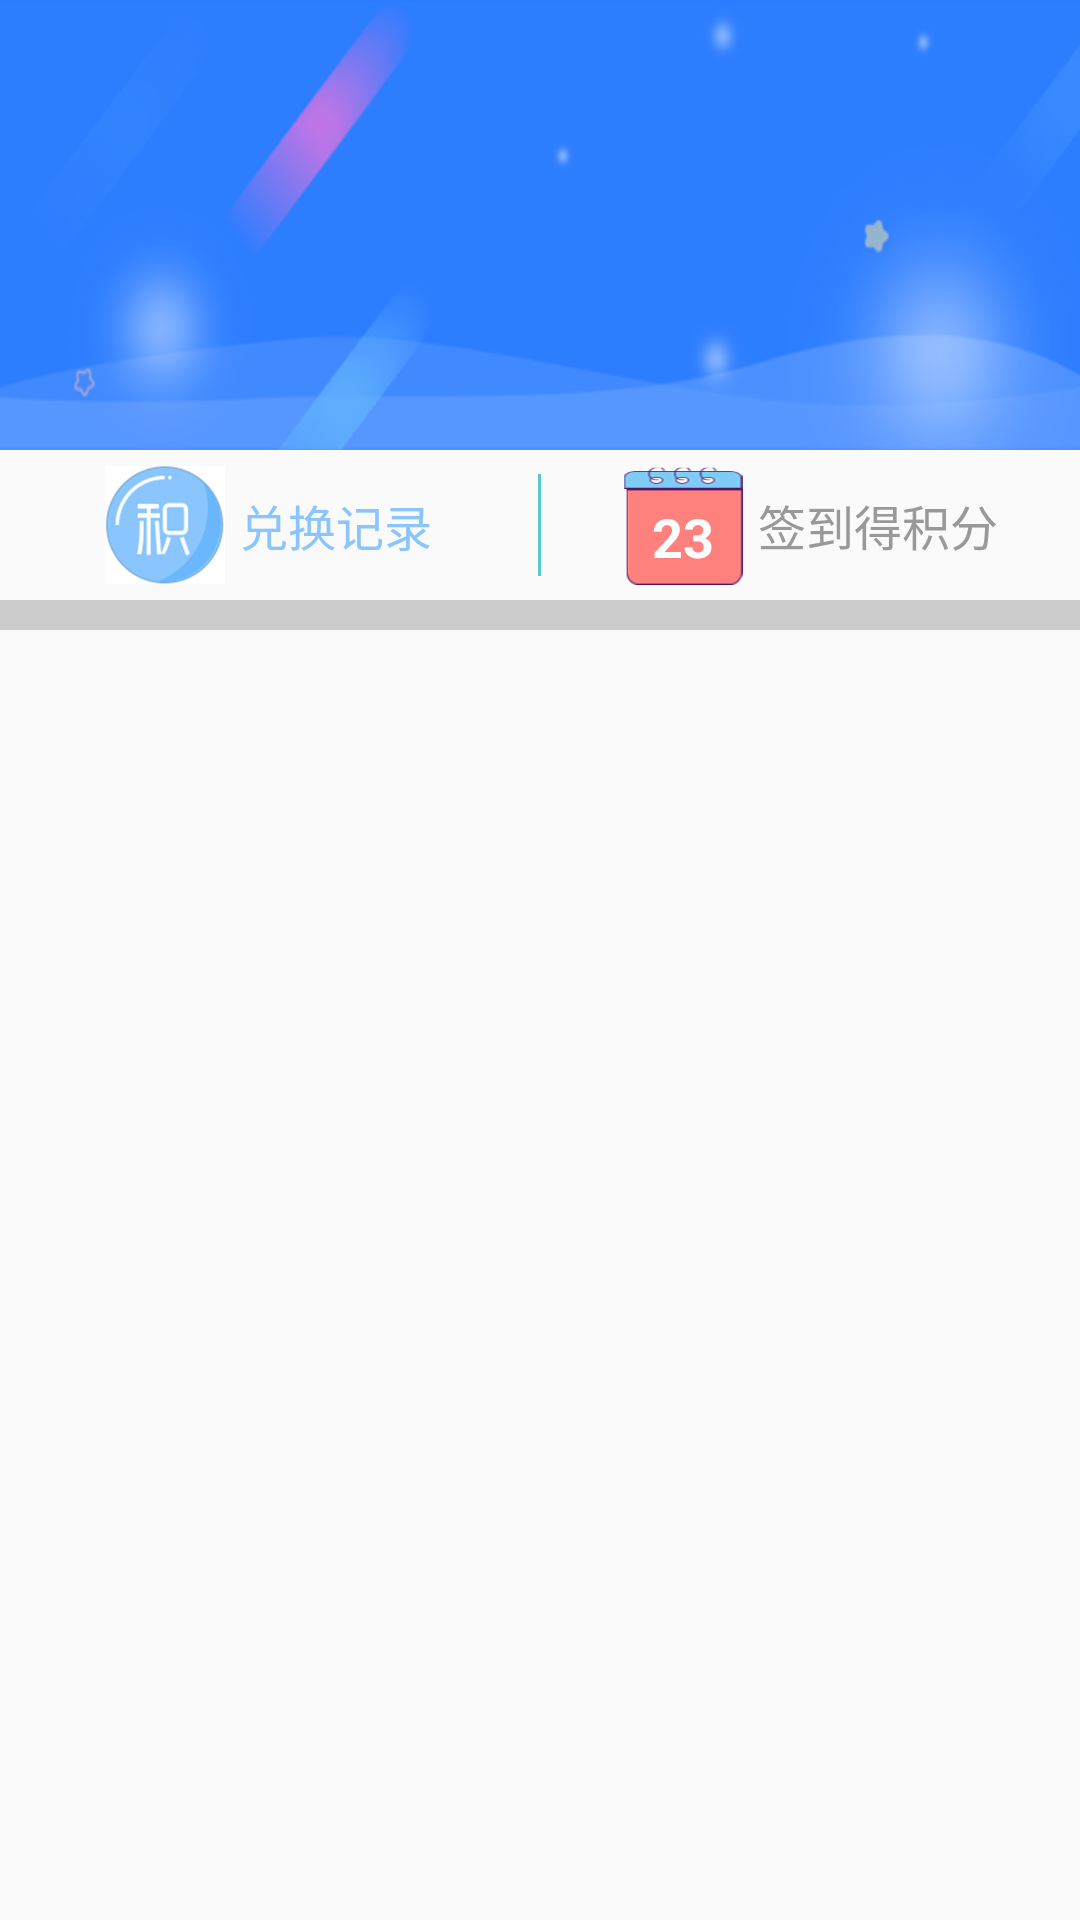

Screen size 1080*1920. Icon name, then its box in pixels as (x1, y1, x2, y2):
integral record: (106, 466, 224, 584)
